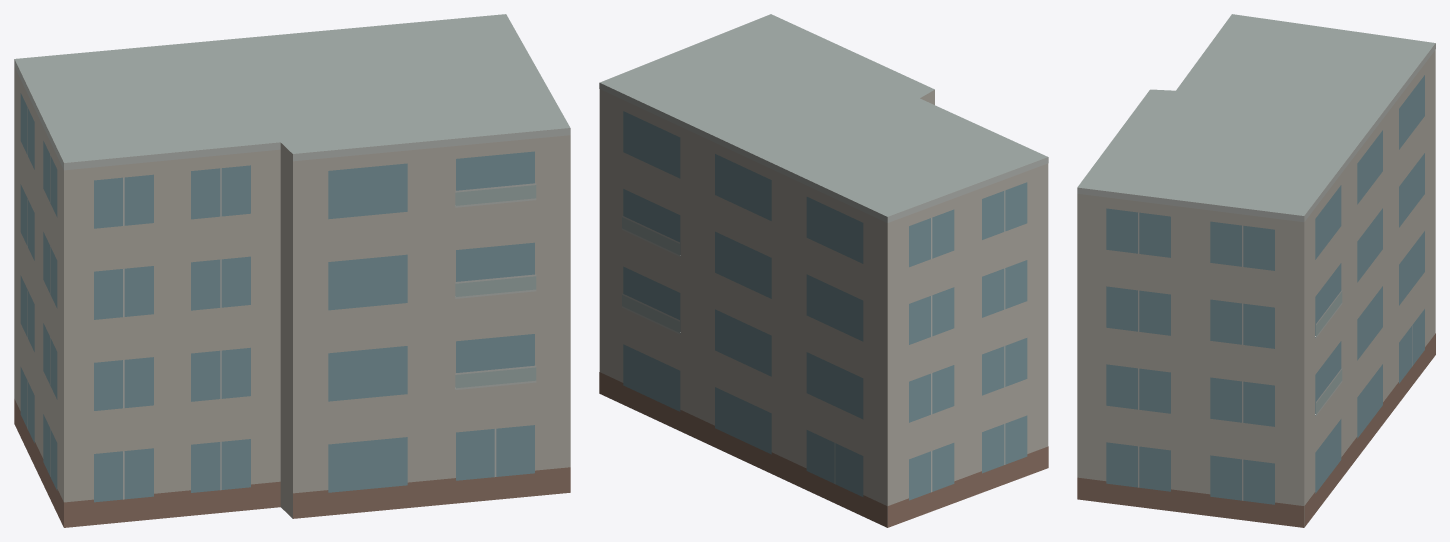
The model's file is survey-upis-32648249.glb.
3 renders of one model, left to right at view 1: azimuth 30°, elevation 25°; view 2: azimuth 150°, elevation 25°; view 3: azimuth 270°, elevation 25°, orthographic. The views are drawn at different scales.
Visible parts, largest first — view 1: survey-upis-32648249.tmp; view 2: survey-upis-32648249.tmp; view 3: survey-upis-32648249.tmp.
Part boxes in pixels (left/top/right/bottom): survey-upis-32648249.tmp: left=14, top=14, right=570, bottom=527; survey-upis-32648249.tmp: left=599, top=14, right=1048, bottom=527; survey-upis-32648249.tmp: left=1077, top=14, right=1435, bottom=527.
Bounding box in the file's own units: 16.96 × 12.2 × 12.72.
